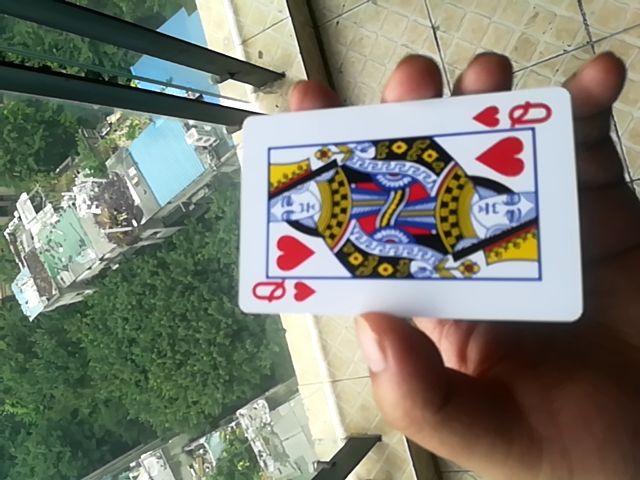hx q: (237, 85, 584, 327)
